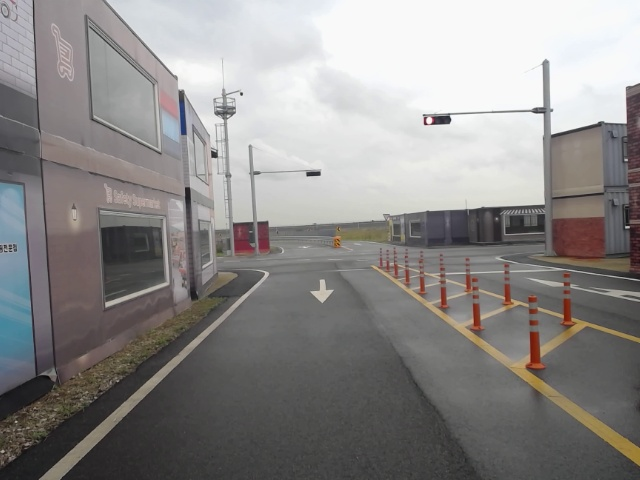red_3: (422, 113, 453, 125)
